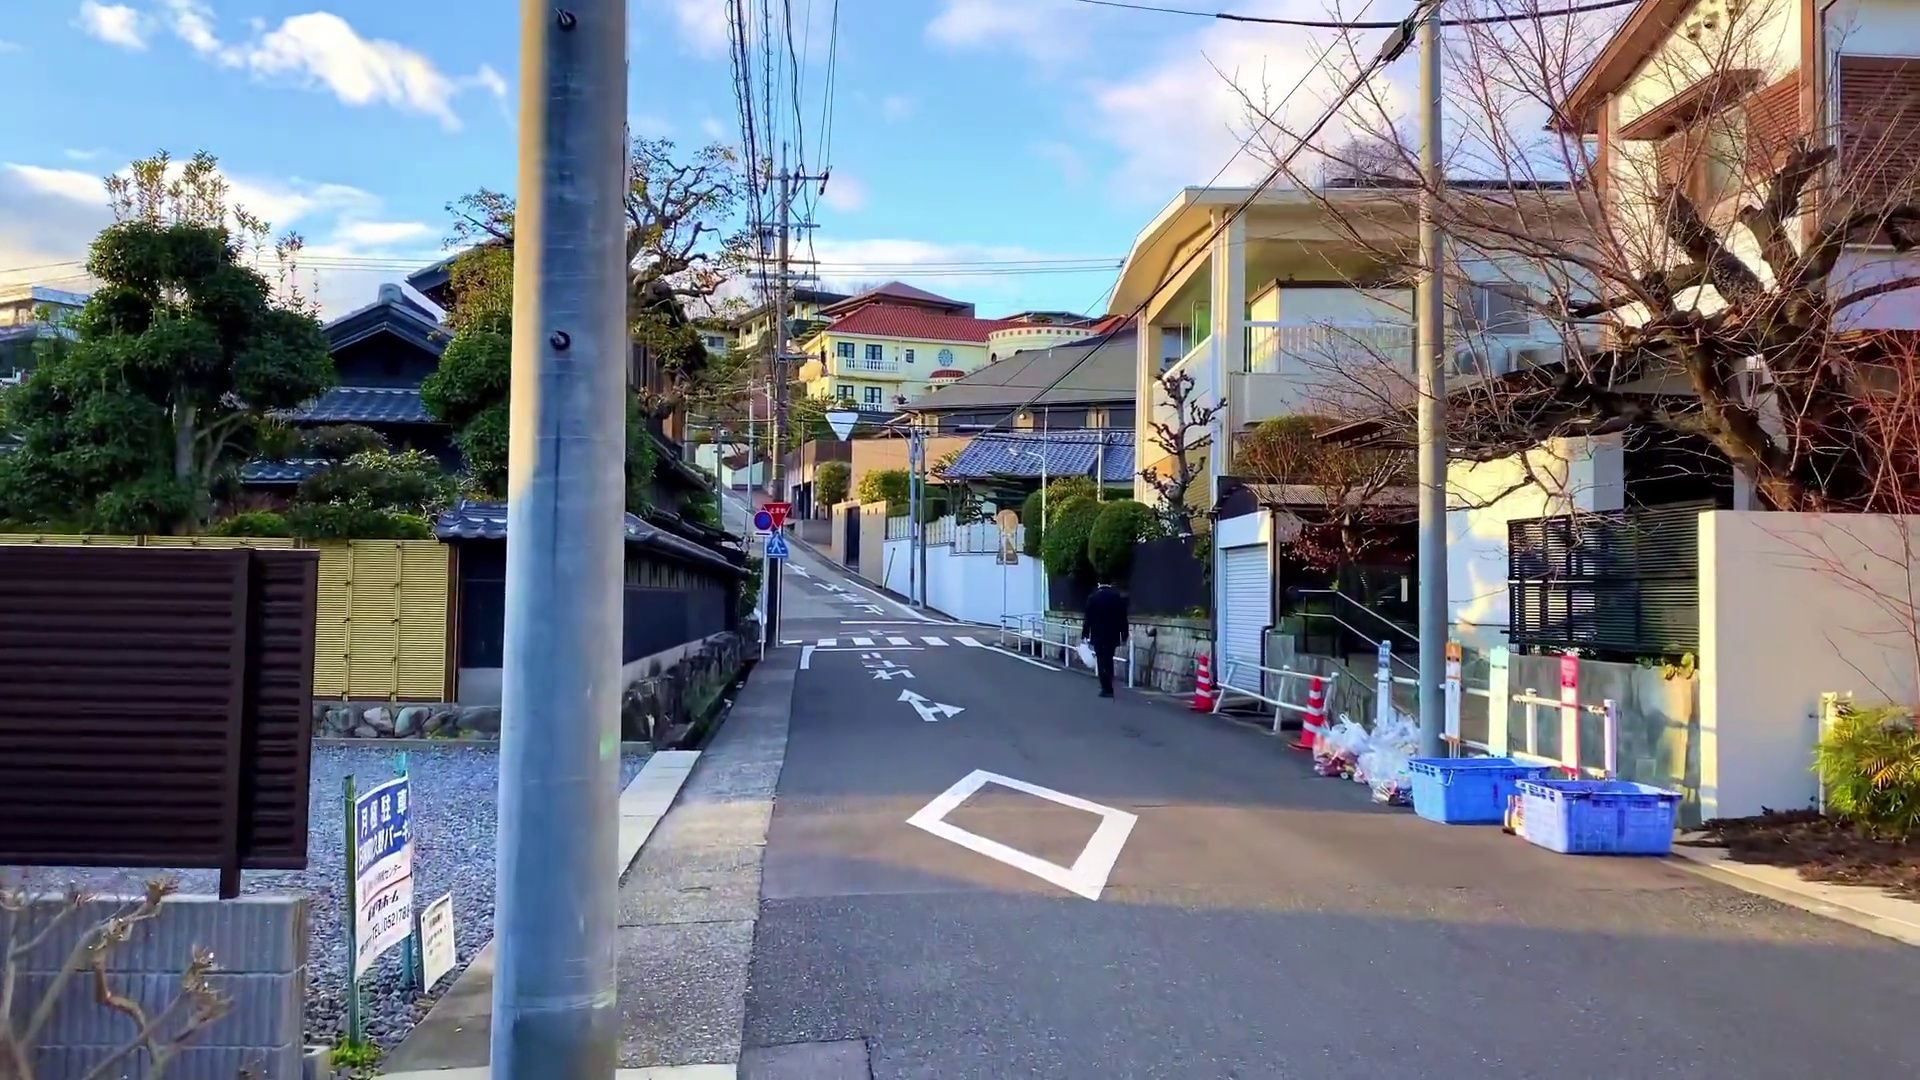person: (1083, 579, 1132, 699)
